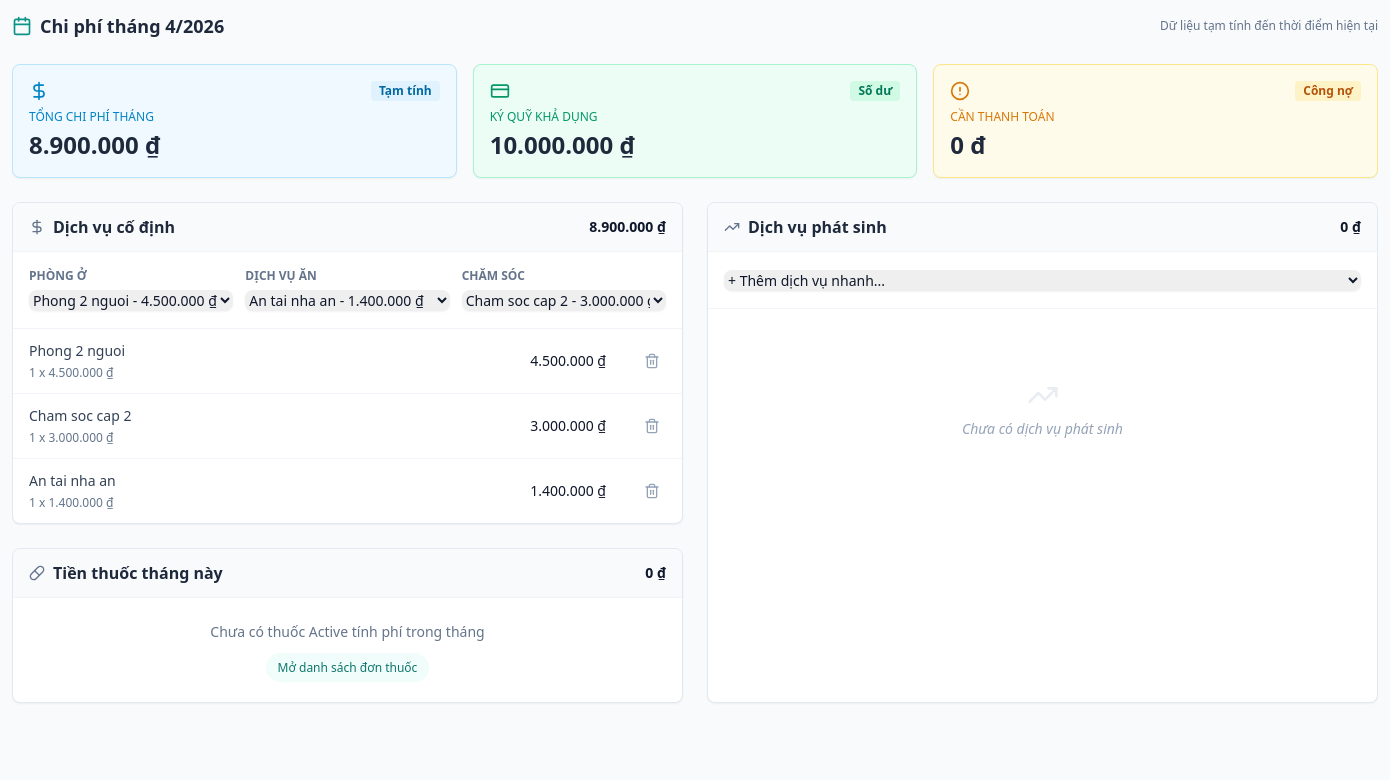
ResidentFinanceTab › prevents removing the last required fixed service category
Click the button named "remove-fixed-service-ROOM_2" at (652, 361), box [638, 347, 666, 375]
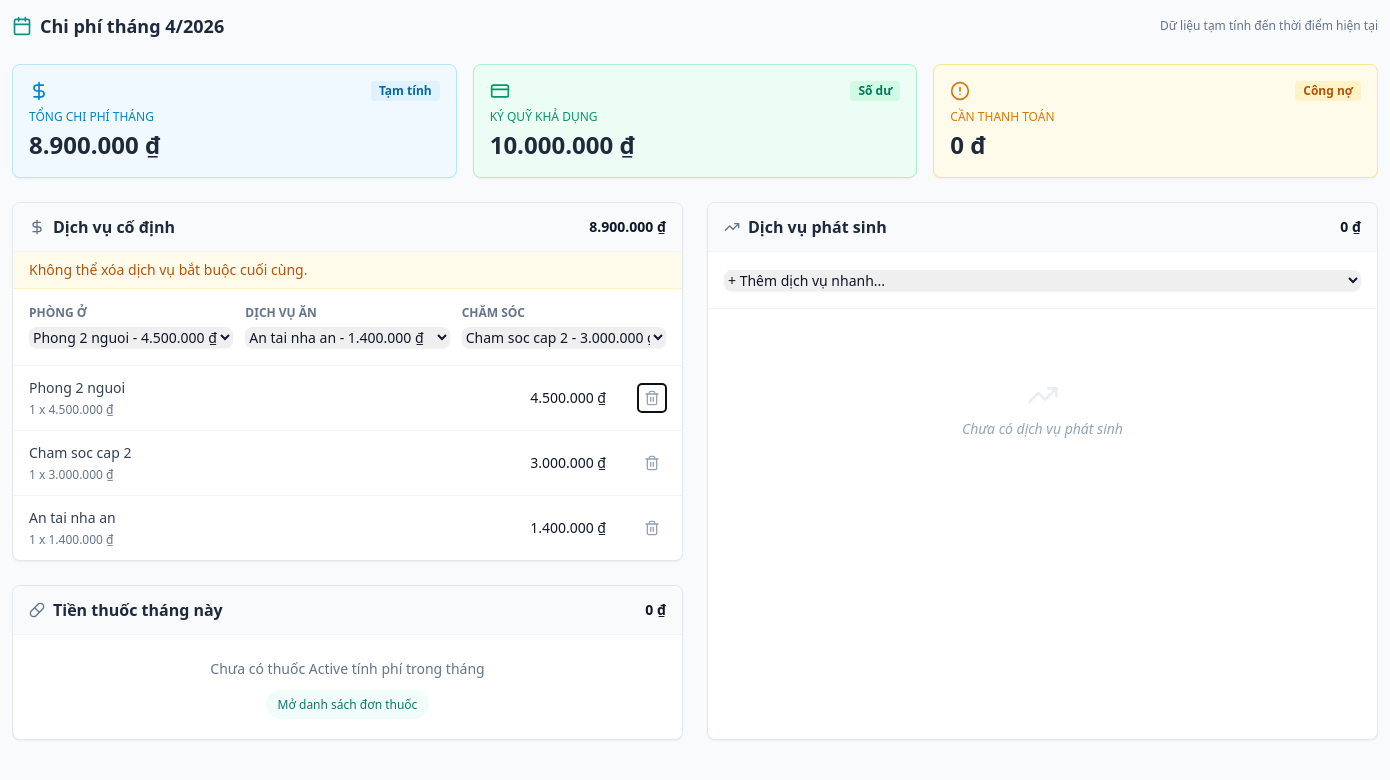
Expected: the text "Không thể xóa dịch vụ bắt buộc cuối cùng." is shown, [13, 252, 682, 289]
